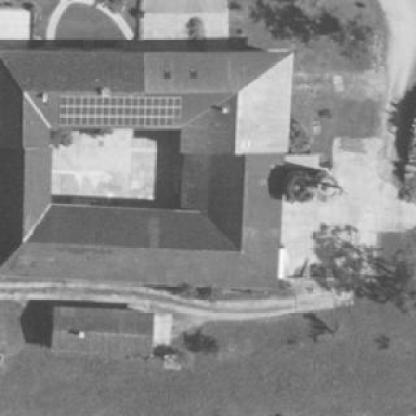solar-pv-panel: (60, 97, 180, 126)
